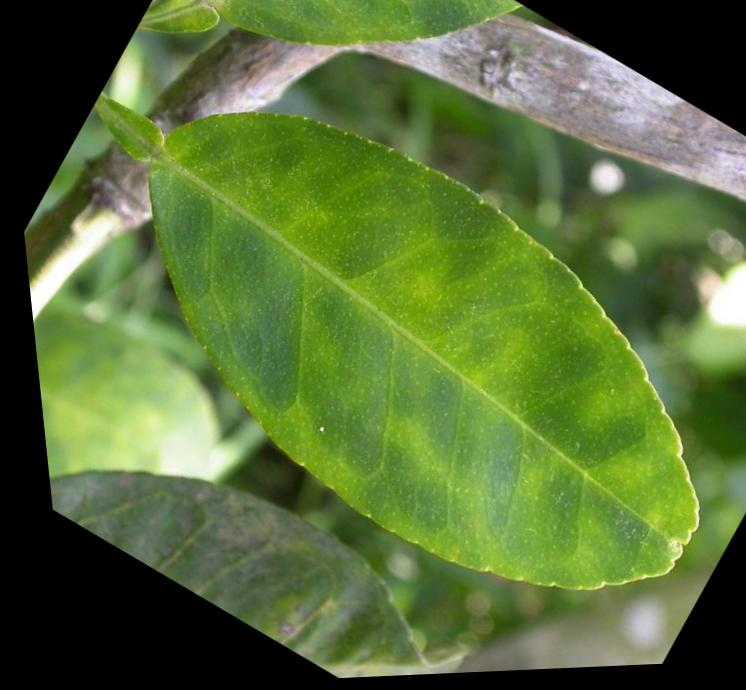Citrus Greening: (44, 40, 746, 689), (167, 0, 557, 169)
